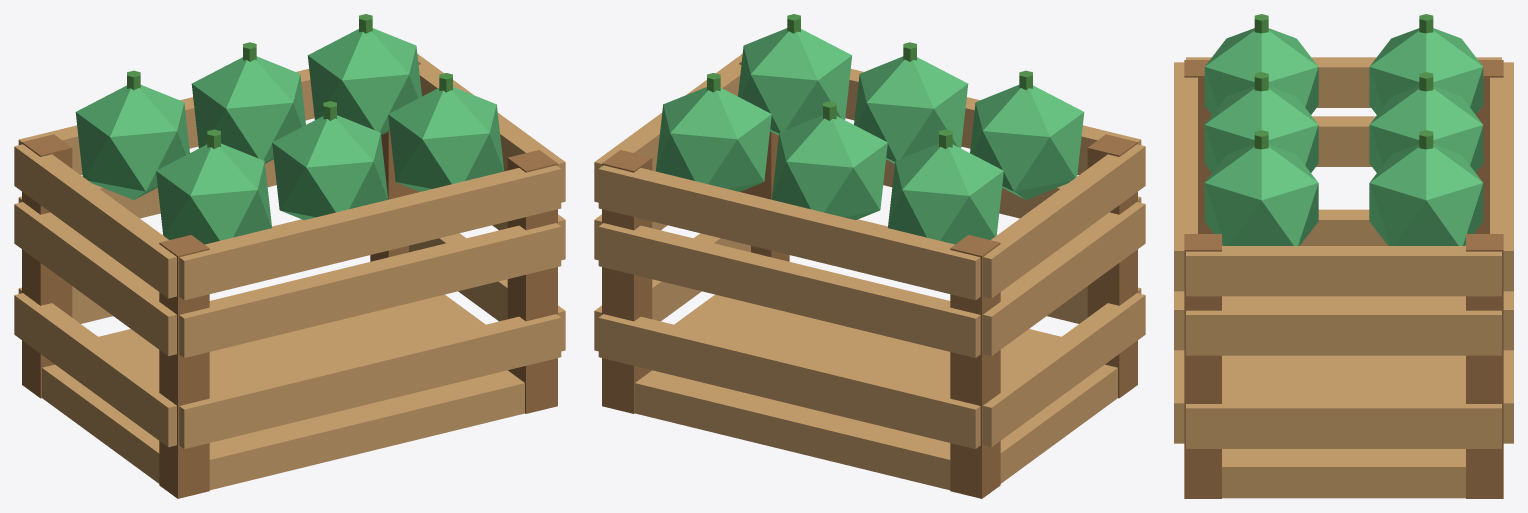
Rendered from TR_Crate_Cabbage.glb.
3 views of the same model, side by side, from view 1: azimuth 30°, elevation 25°; view 2: azimuth 150°, elevation 25°; view 3: azimuth 270°, elevation 25° (orthographic). The views are drawn at different scales.
Parts seen in each view (by area): view 1: TR_Crate_Cabbage; view 2: TR_Crate_Cabbage; view 3: TR_Crate_Cabbage.
Boxes of the visible parts, x1=… form: TR_Crate_Cabbage: x1=14, y1=14, x2=565, y2=498; TR_Crate_Cabbage: x1=594, y1=14, x2=1145, y2=498; TR_Crate_Cabbage: x1=1174, y1=14, x2=1513, y2=498.
Bounding box in the file's own units: 0.685 × 0.528 × 0.495.
